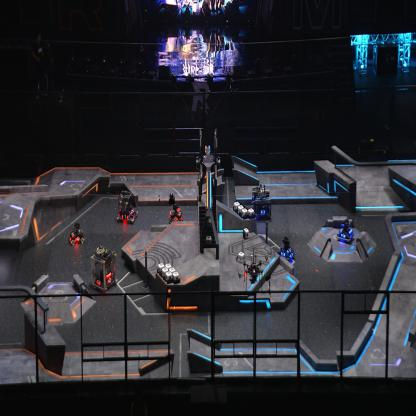car: (91, 246, 117, 292), (117, 189, 138, 224), (251, 186, 271, 220), (276, 234, 295, 264), (336, 218, 355, 242), (68, 223, 86, 245), (168, 203, 183, 226)
